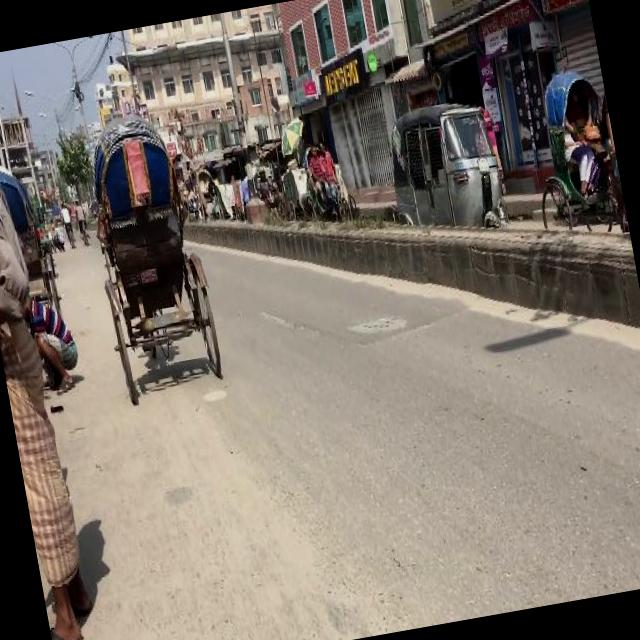motorcycle: (74, 103, 224, 398), (515, 65, 627, 239), (378, 94, 509, 241), (0, 158, 62, 320), (294, 138, 350, 222), (192, 164, 224, 218)
